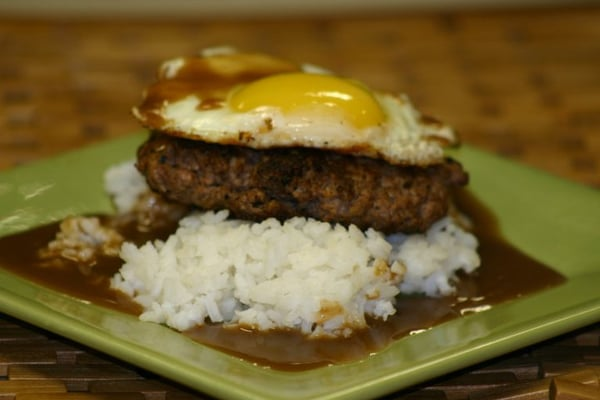soup: (54, 47, 485, 339)
